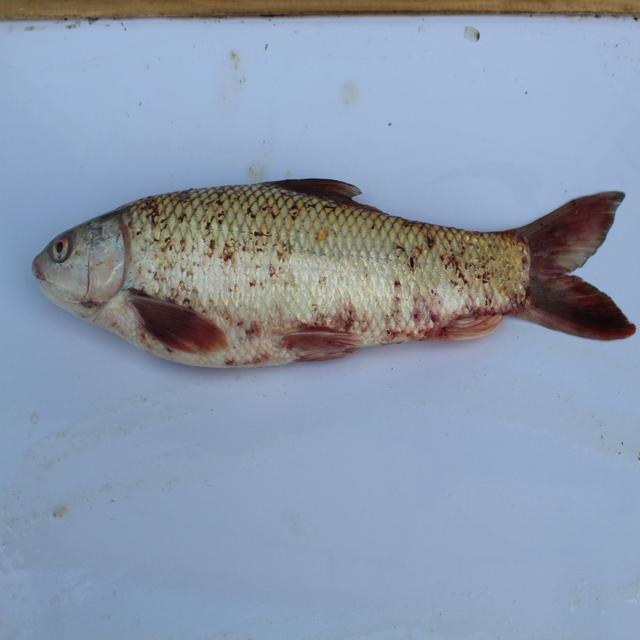Mori: (27, 167, 640, 380)
